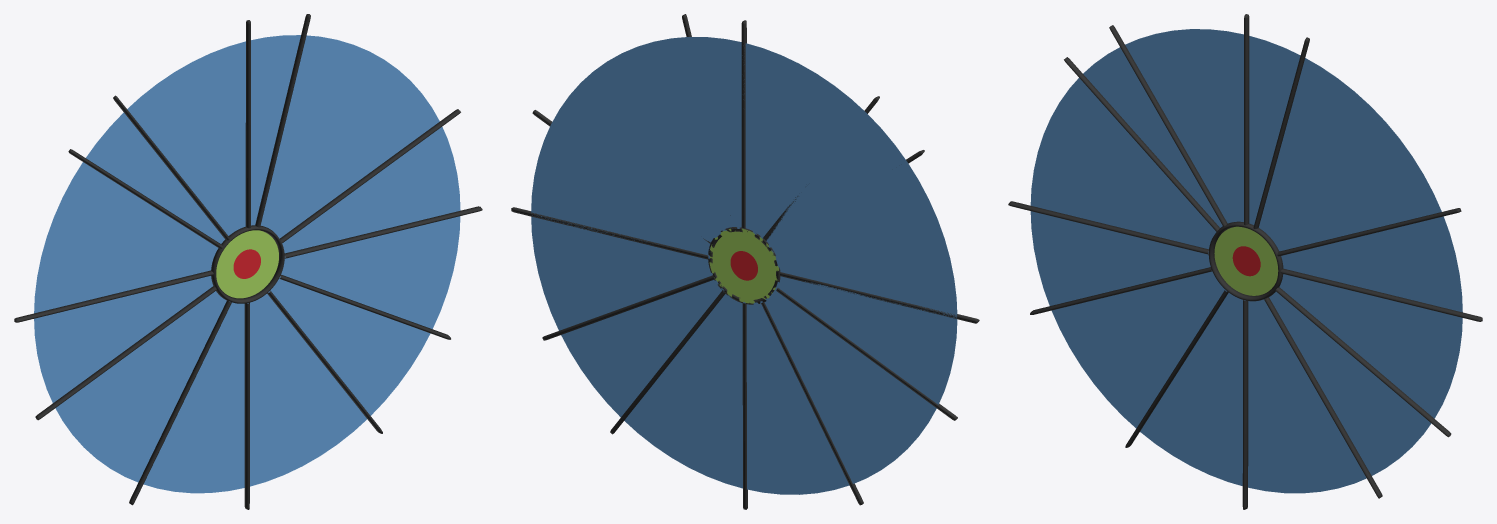
Rendered from Darchary_L5.fbx.
3 renders of one model, left to right at view 1: azimuth 30°, elevation 25°; view 2: azimuth 150°, elevation 25°; view 3: azimuth 330°, elevation 25°, orthographic.
Parts seen in each view (by area): view 1: L5_DarkLine.001, L5_B, L5_J, L5_G, L5_L, L5_F, L5_E, L5_I, L5_C, L5_H2x, L5_B2x, L5_D2x (+13 smaller); view 2: L5_B, L5_J, L5_G, L5_L, L5_F, L5_DarkLine.001, L5_C, L5_I, L5_E, L5_H2x, L5_B2x, L5_K (+13 smaller); view 3: L5_DarkLine.001, L5_B, L5_J, L5_G, L5_L, L5_F, L5_I, L5_C, L5_E, L5_H2x, L5_B2x, L5_D2x (+13 smaller).
Boxes of the visible parts, x1=… form: L5_DarkLine.001: x1=14, y1=14, x2=482, y2=509; L5_B: x1=260, y1=74, x2=407, y2=238; L5_J: x1=70, y1=179, x2=218, y2=304; L5_G: x1=143, y1=346, x2=244, y2=493; L5_L: x1=148, y1=79, x2=245, y2=235; L5_F: x1=247, y1=292, x2=346, y2=448; L5_E: x1=294, y1=291, x2=430, y2=415; L5_I: x1=34, y1=286, x2=174, y2=402; L5_C: x1=325, y1=127, x2=460, y2=241; L5_H2x: x1=55, y1=361, x2=173, y2=482; L5_B2x: x1=297, y1=35, x2=439, y2=144; L5_D2x: x1=378, y1=216, x2=460, y2=328; L5_B: x1=583, y1=75, x2=734, y2=241; L5_J: x1=771, y1=180, x2=921, y2=306; L5_G: x1=746, y1=347, x2=849, y2=494; L5_L: x1=745, y1=80, x2=845, y2=238; L5_F: x1=645, y1=294, x2=744, y2=450; L5_DarkLine.001: x1=511, y1=14, x2=979, y2=509; L5_C: x1=531, y1=124, x2=667, y2=244; L5_I: x1=817, y1=285, x2=957, y2=404; L5_E: x1=561, y1=293, x2=697, y2=417; L5_H2x: x1=817, y1=361, x2=936, y2=483; L5_B2x: x1=551, y1=37, x2=697, y2=147; L5_K: x1=766, y1=113, x2=907, y2=247; L5_DarkLine.001: x1=1008, y1=14, x2=1482, y2=509; L5_B: x1=1258, y1=92, x2=1408, y2=251; L5_J: x1=1067, y1=109, x2=1216, y2=251; L5_G: x1=1140, y1=325, x2=1242, y2=485; L5_L: x1=1146, y1=68, x2=1243, y2=223; L5_F: x1=1248, y1=299, x2=1345, y2=454; L5_I: x1=1030, y1=211, x2=1172, y2=305; L5_C: x1=1325, y1=216, x2=1462, y2=312; L5_E: x1=1294, y1=324, x2=1431, y2=475; L5_H2x: x1=1051, y1=294, x2=1172, y2=428; L5_B2x: x1=1296, y1=58, x2=1441, y2=219; L5_D2x: x1=1380, y1=302, x2=1462, y2=418.
Size of the model in its own units: 220 by 220 by 2.01.
